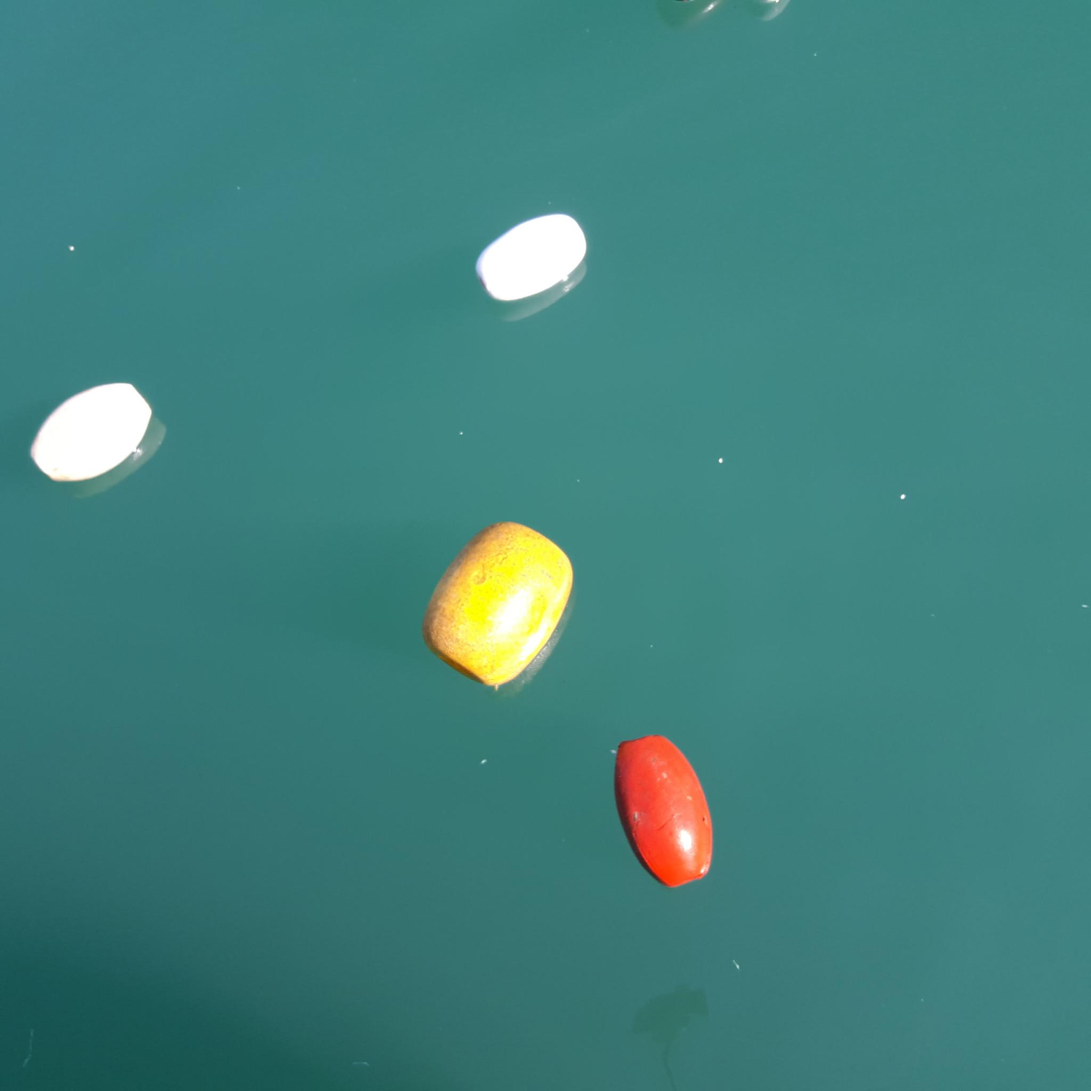sampah_terapung: (422, 521, 574, 691), (614, 735, 713, 888), (30, 383, 153, 483), (475, 214, 587, 301)
